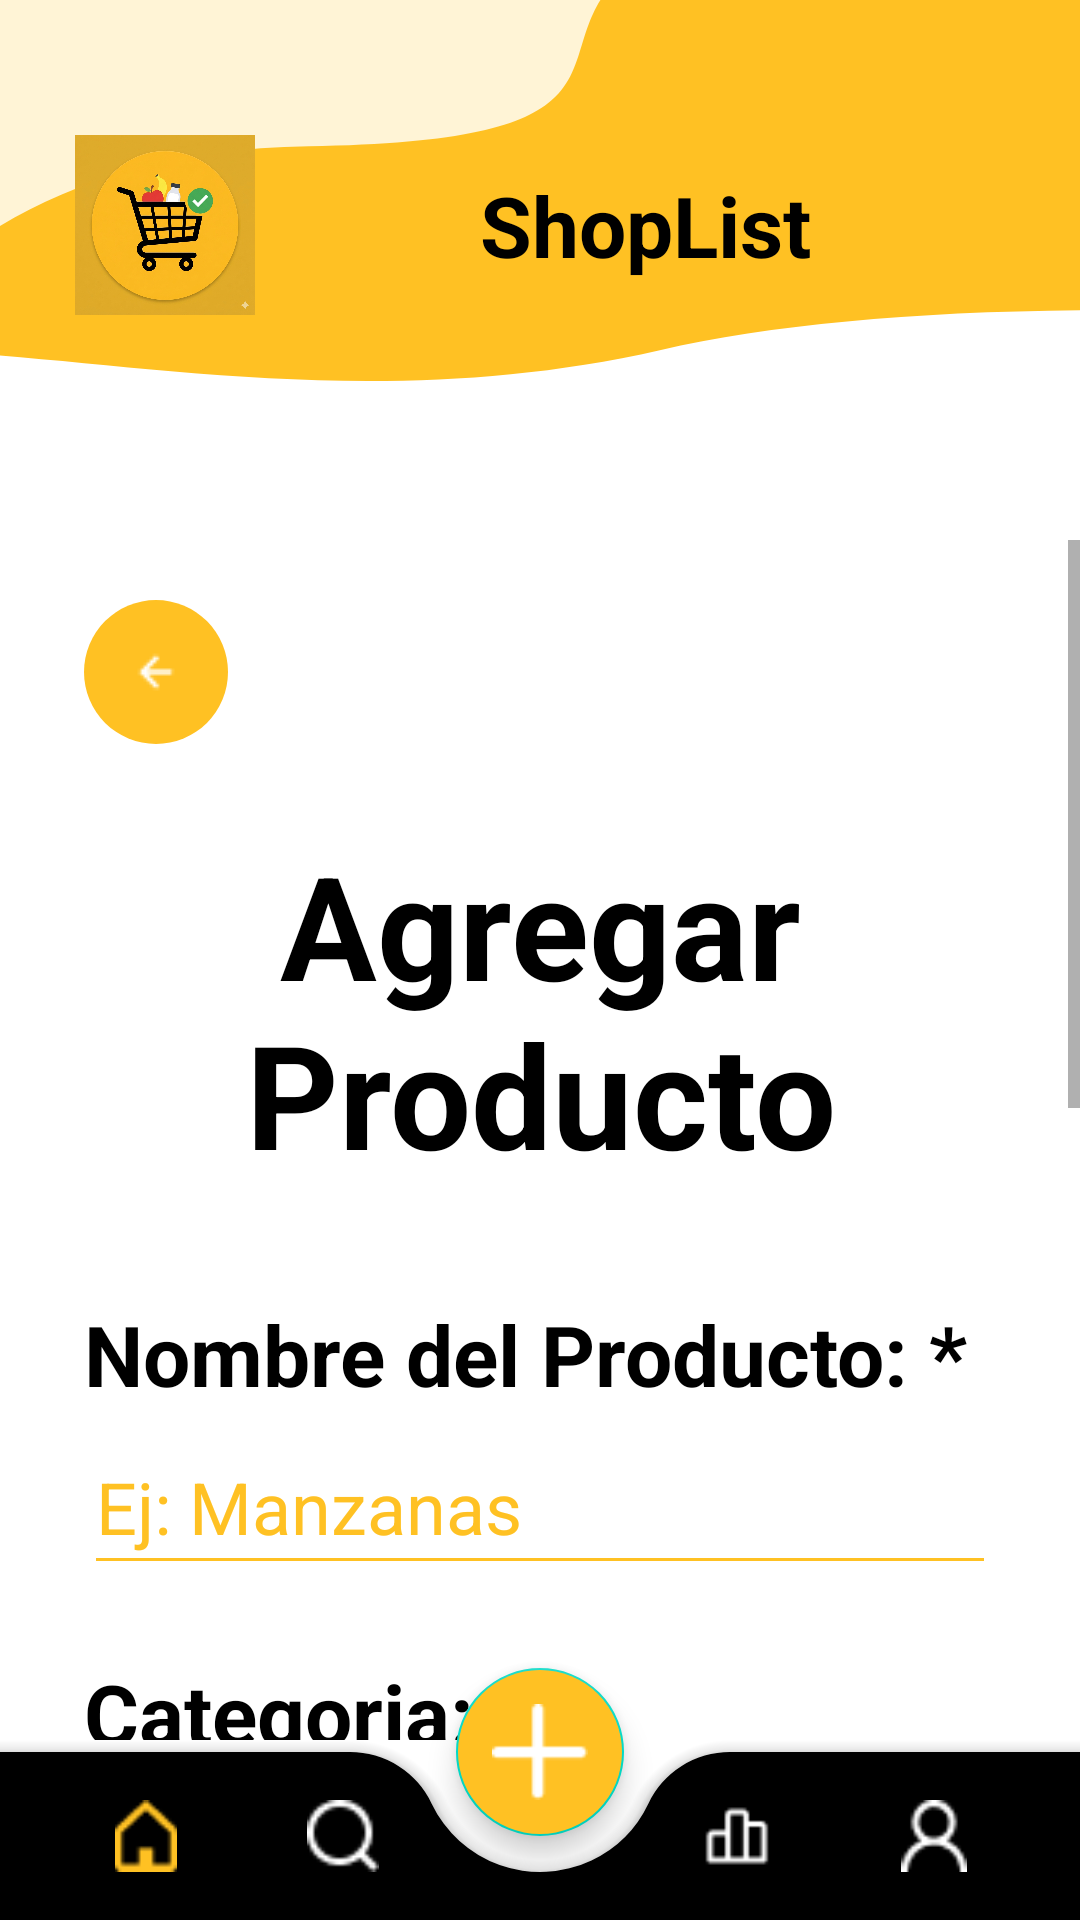

Locate icon controls on the screen. Image size 1080px x 1920px, boxes as bbox(x1, y1, x2, y2).
create list: bbox(456, 1668, 624, 1836)
Volver: bbox(84, 600, 228, 744)
